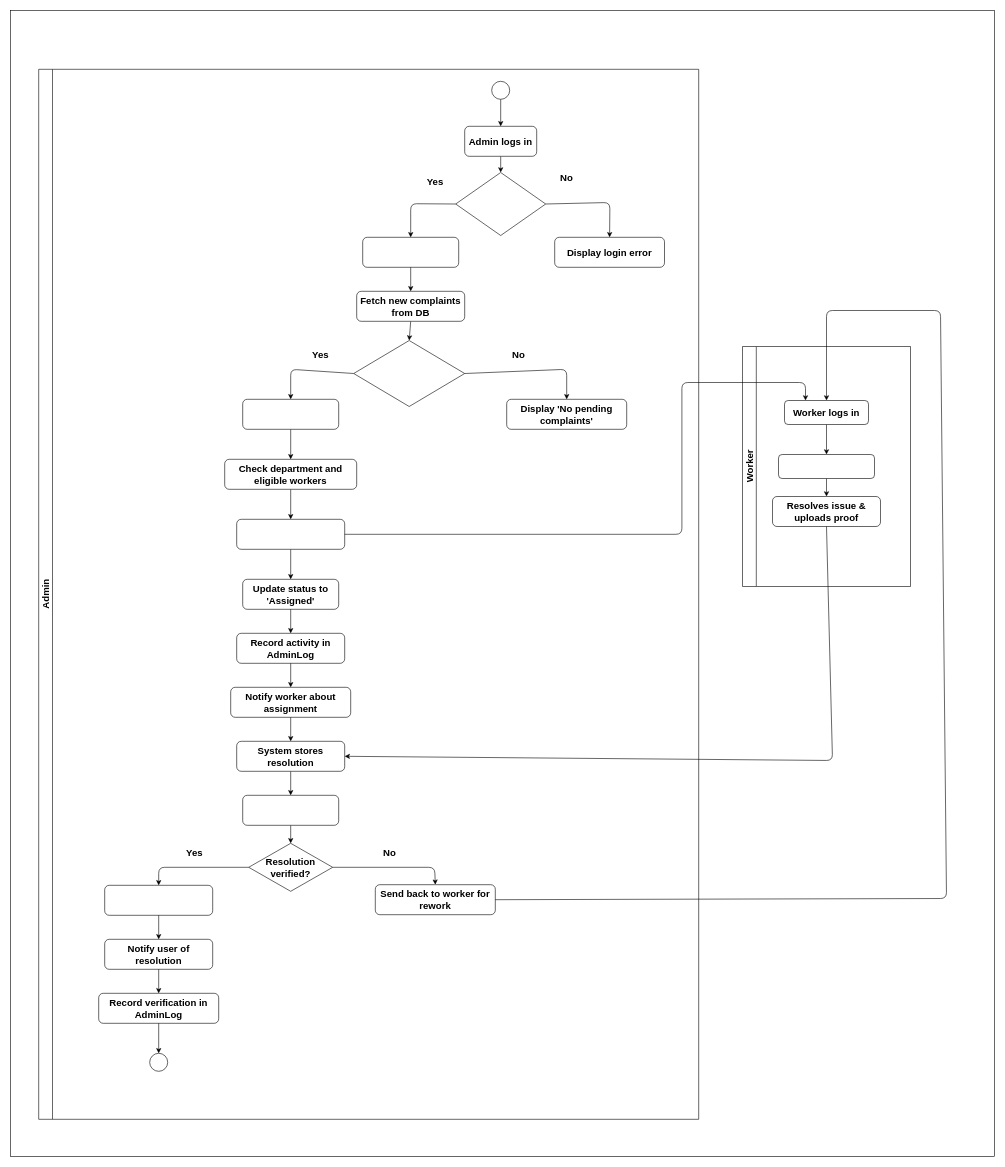
The diagram is 1005 pixels wide and 1167 high, and some of its shapes have lost their labels. Each missing label, with the centre of its shape:
"Admin verifies proof" belongs at (x=290, y=810).
"Assign complaint to worker" belongs at (x=290, y=534).
"Display Admin Dashboard" belongs at (x=410, y=252).
"Login successful?" belongs at (x=500, y=204).
"Mark complaint 'Verified'" belongs at (x=158, y=900).
"New complaints exist?" belongs at (x=409, y=373).
"Review complaint details" belongs at (x=290, y=414).
"Views assigned complaints" belongs at (x=826, y=466).
